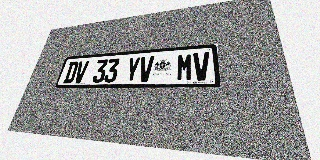3: (103, 58, 120, 83), (92, 59, 108, 83)
D: (63, 61, 79, 83)
M: (176, 53, 193, 81)
V: (193, 52, 210, 81), (138, 56, 154, 82), (73, 61, 89, 83)
Y: (124, 57, 141, 82)
